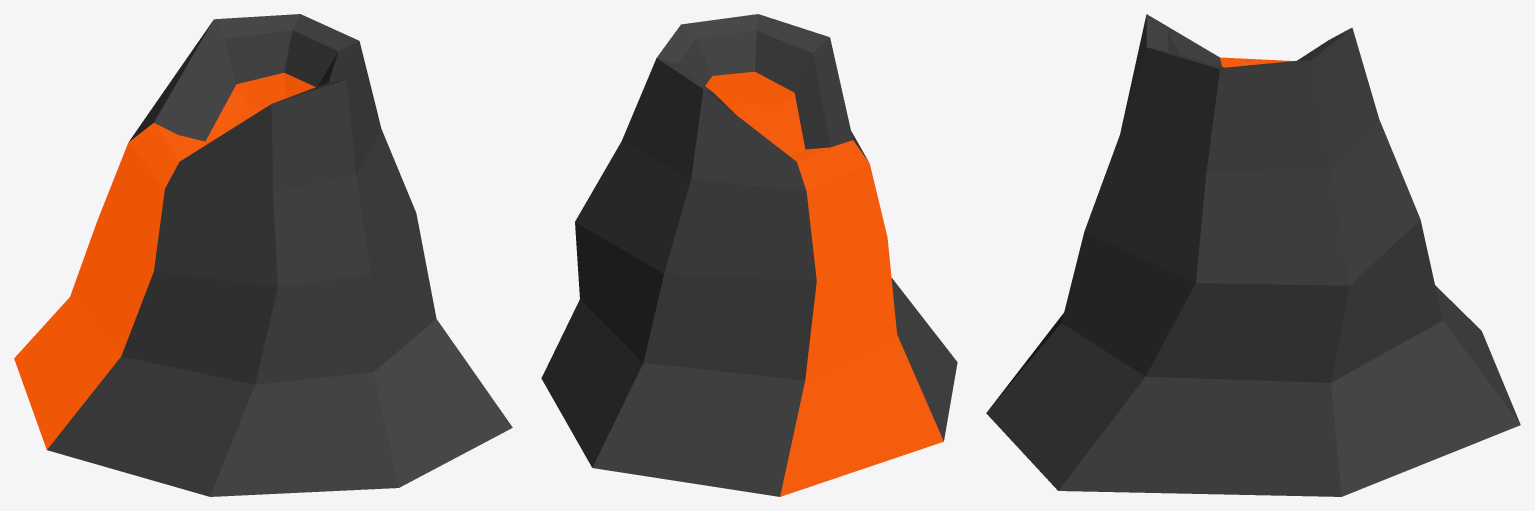
File: Volcano_Small.glb
3 views of the same model, side by side, from view 1: azimuth 30°, elevation 25°; view 2: azimuth 150°, elevation 25°; view 3: azimuth 270°, elevation 25° (orthographic). The views are drawn at different scales.
Parts seen in each view (by area): view 1: Cylinder; view 2: Cylinder; view 3: Cylinder.
Boxes of the visible parts, x1,y1,x2,y2 form: Cylinder: (14, 14, 512, 496); Cylinder: (541, 14, 957, 496); Cylinder: (986, 14, 1520, 496).
Size of the model in its own units: 4.43 by 3.87 by 4.94.
